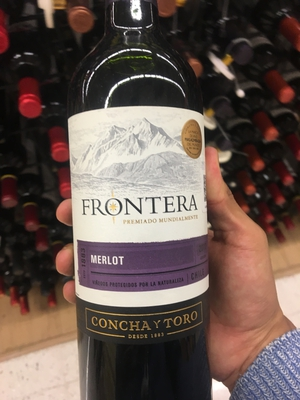frontera merlot: (57, 8, 228, 400)
